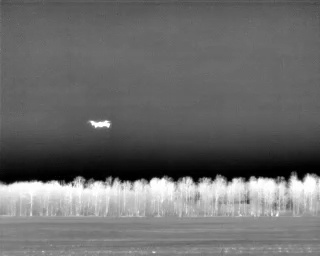DRONE: (85, 115, 115, 134)
